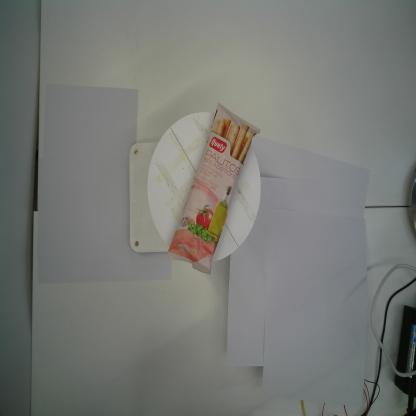Dessert: (167, 102, 261, 276)
